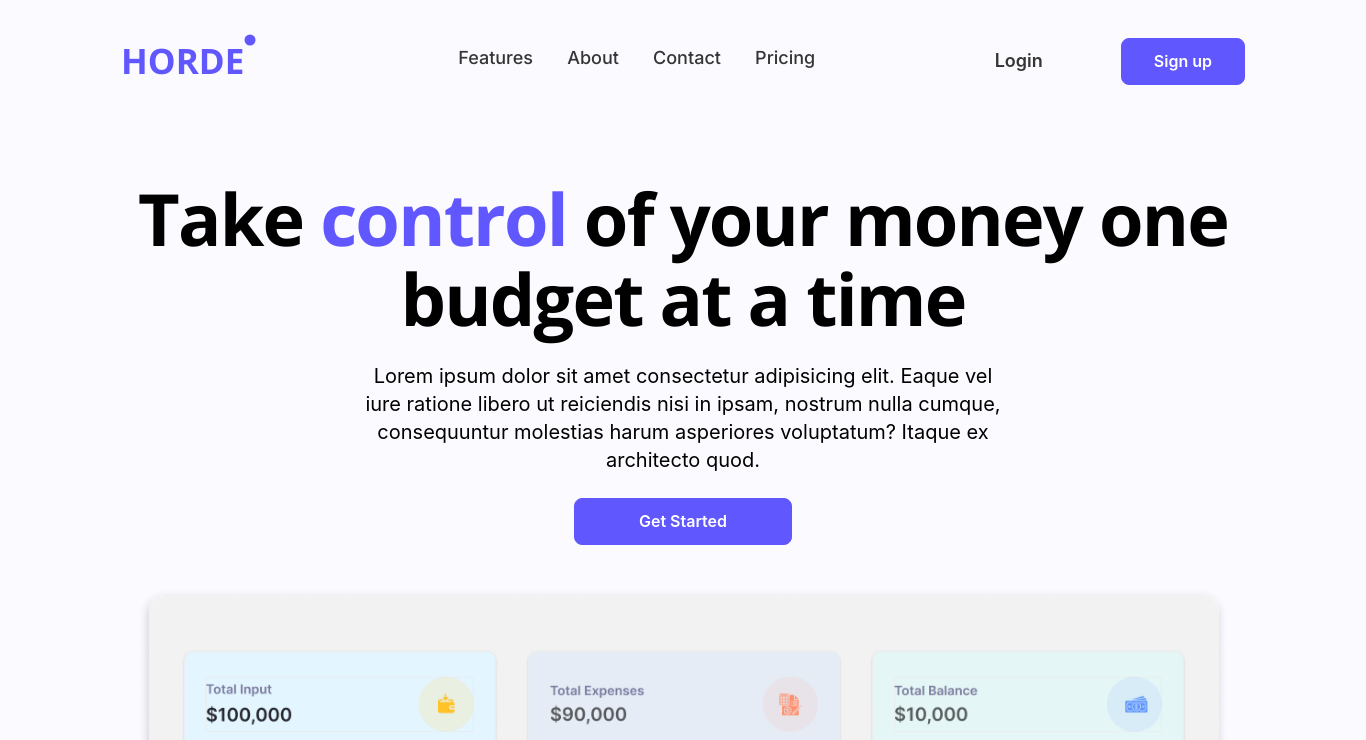
Scenario: Testing Authentication › Should show validation errors and allow successful login
Navigate to login
Click the button with test id "login-button" at (683, 522), box [574,498,792,545]
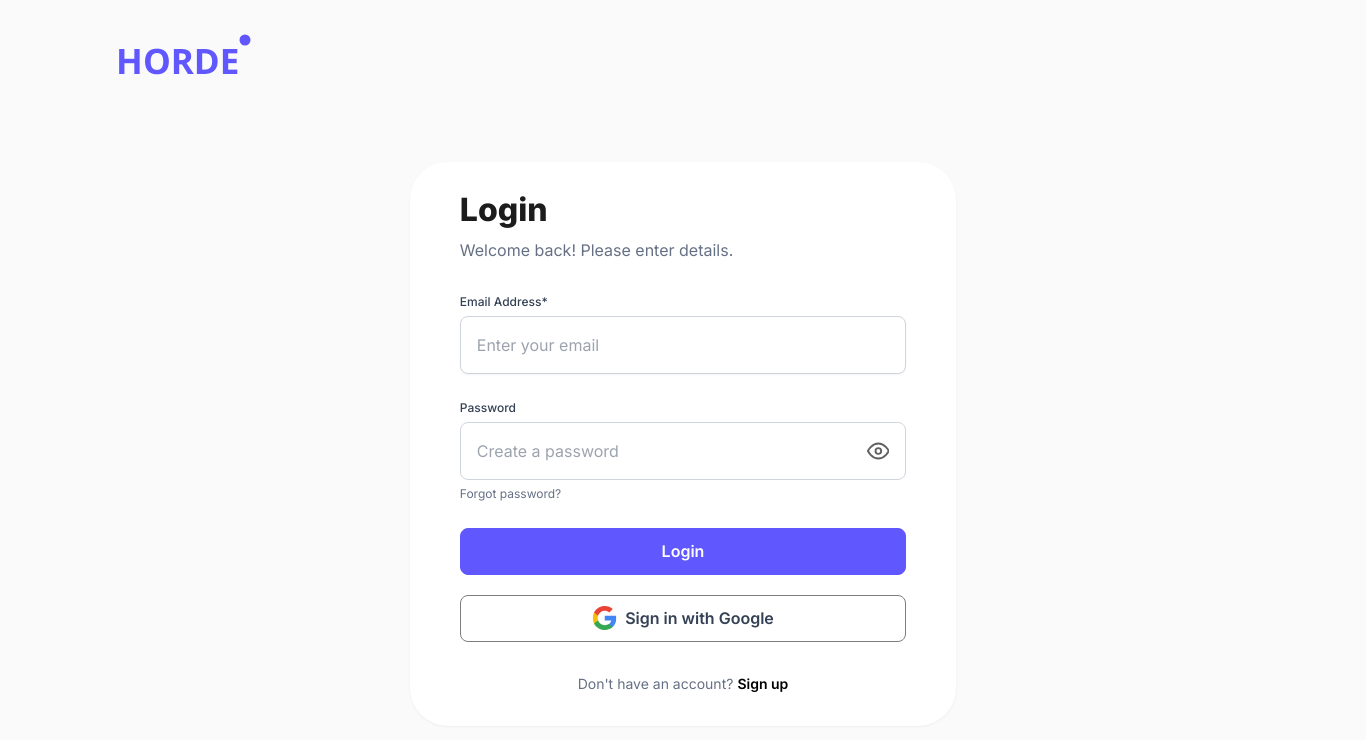
Expected: the text "Email is Required" is not shown
Result: the heading "Login Welcome back! Please enter details." is shown at [460,190,733,260]
Try submitting empty form
Click the button with test id "login-submit-button" at (683, 552), box [460,528,906,575]
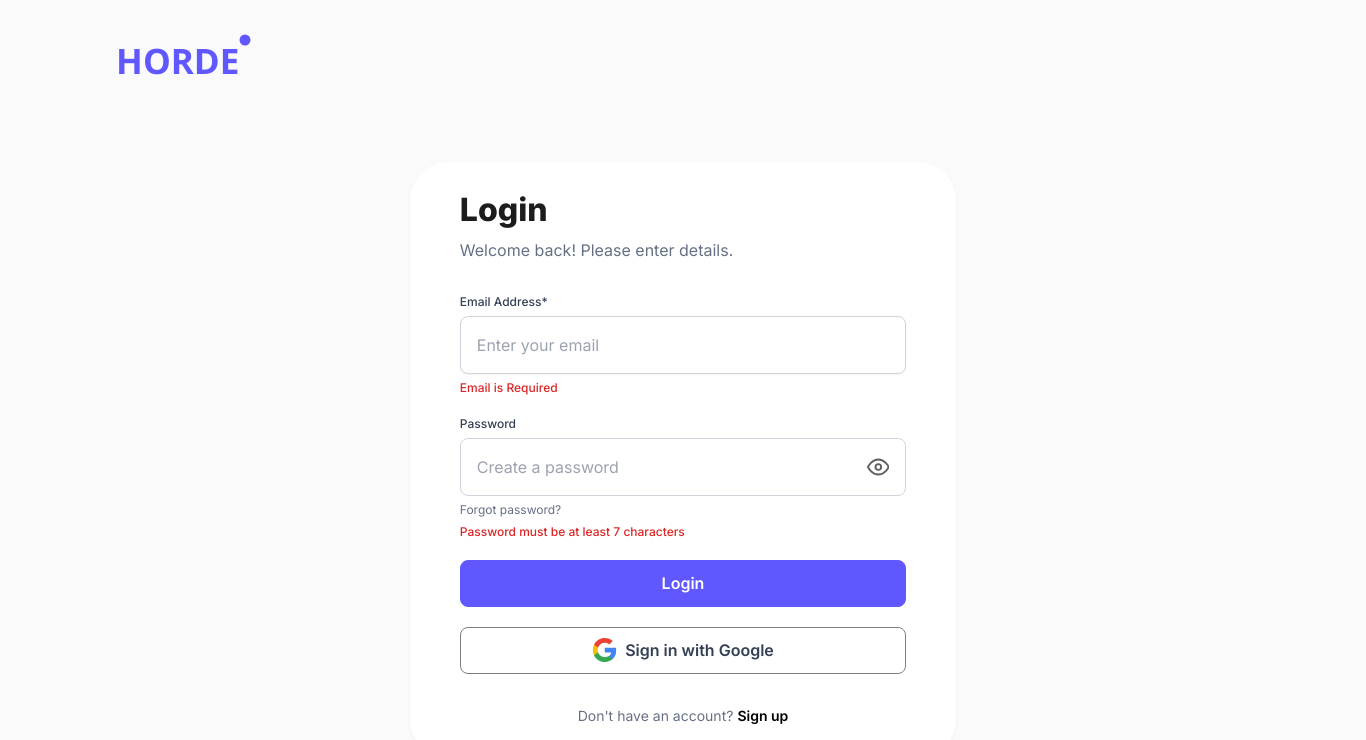
Expected: the text "Track and manage your expenses today!" is not shown
Result: the text "Email Address* Email is Required" is shown at [460,294,906,396]
Result: the text "Password must be at least 7 characters" is shown at [460,416,906,540]
Fill in form
Type "priscaebube@gmail.com" into the field with test id "login-email-input" at (683, 345), box [460,316,906,374]
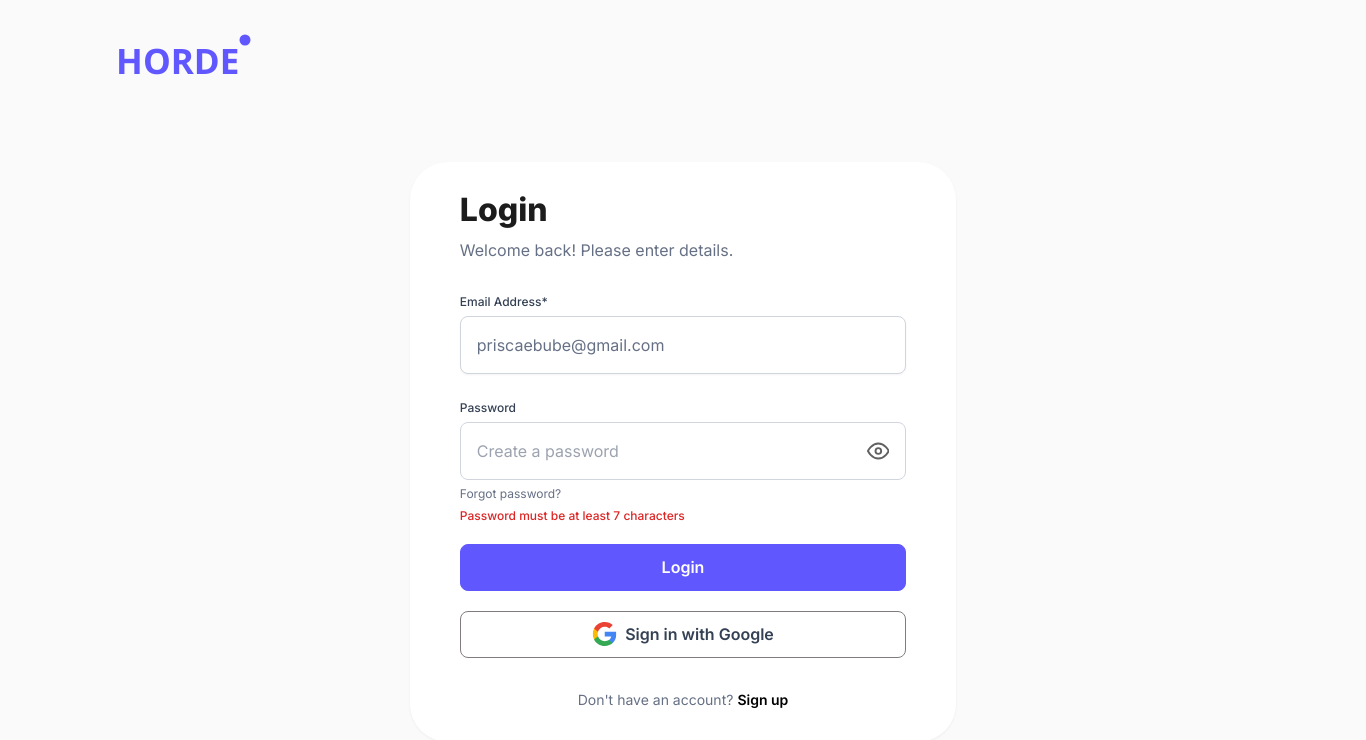
Type "1234567" into the password field with test id "login-password-input" at (672, 451), box [477,423,867,479]
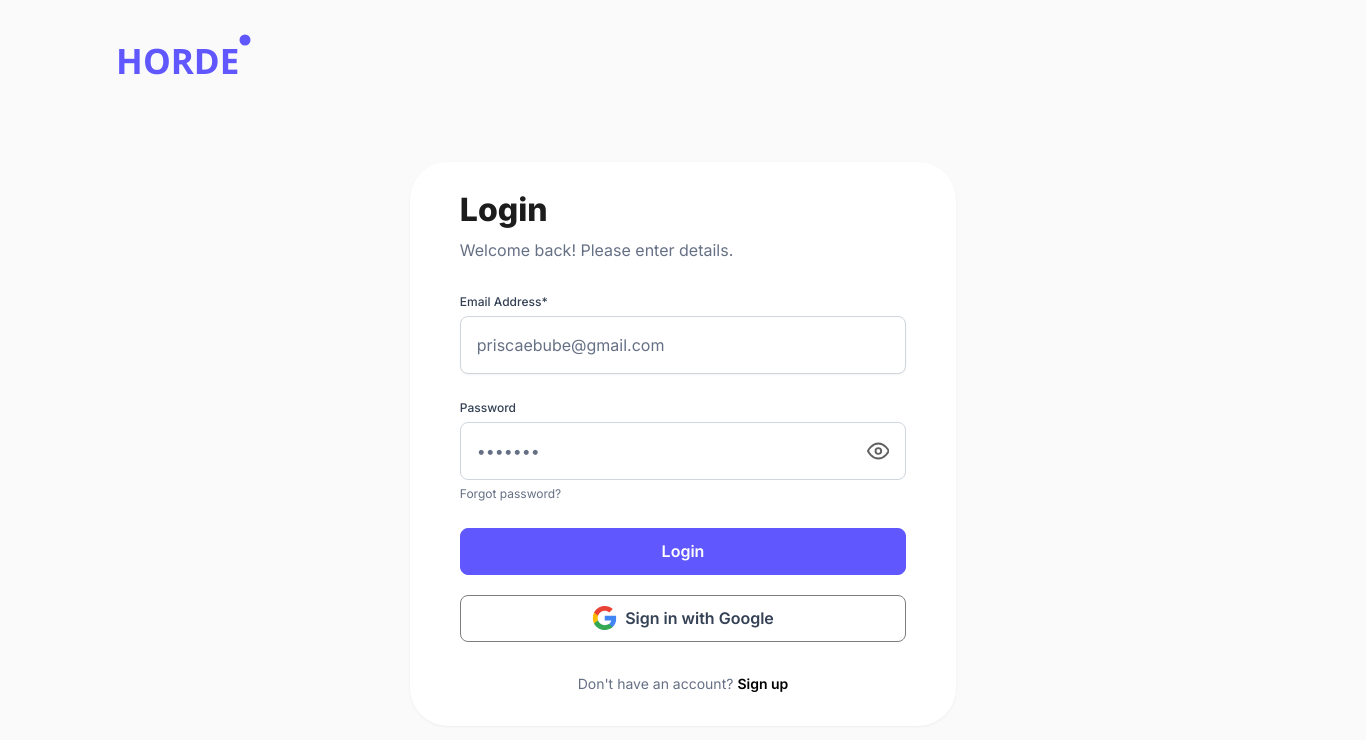
Submit form
Click the button with test id "login-submit-button" at (683, 552), box [460,528,906,575]
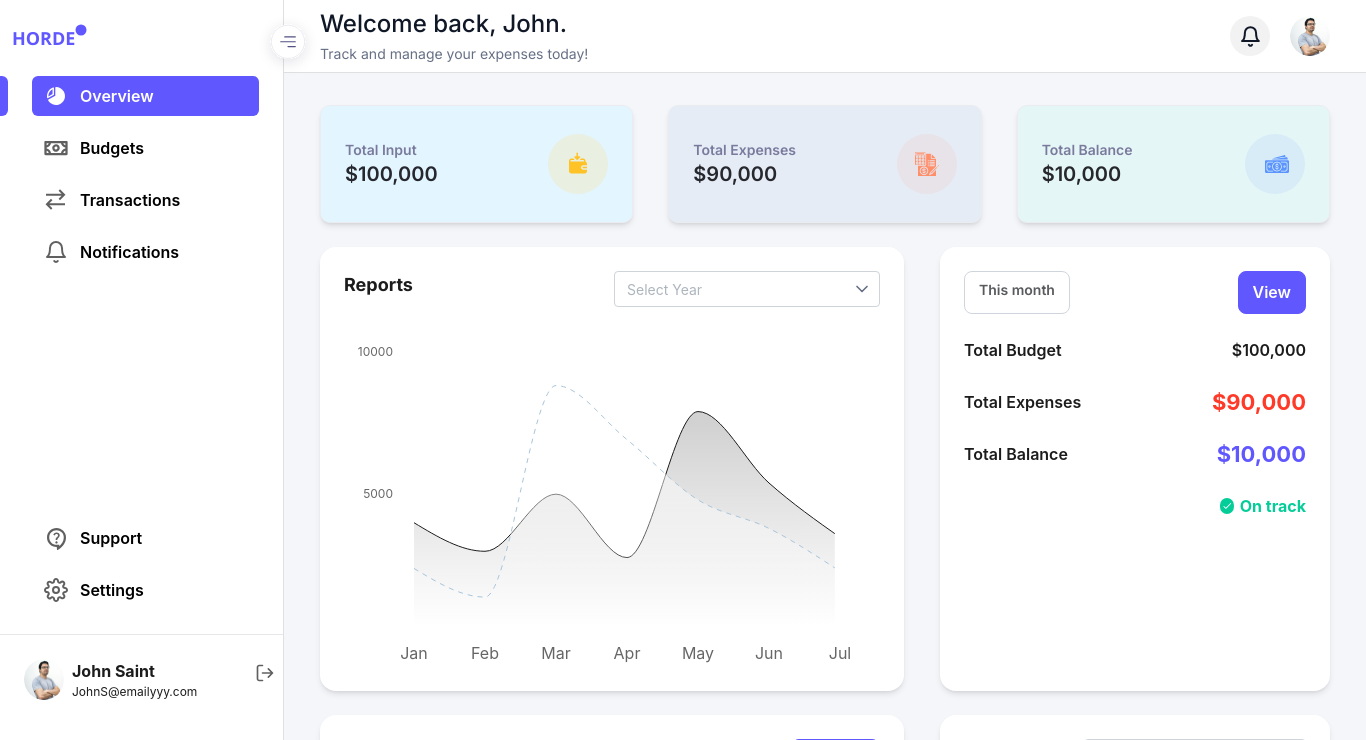
Result: the text "Track and manage your expenses today!" is shown at [320,44,588,64]
